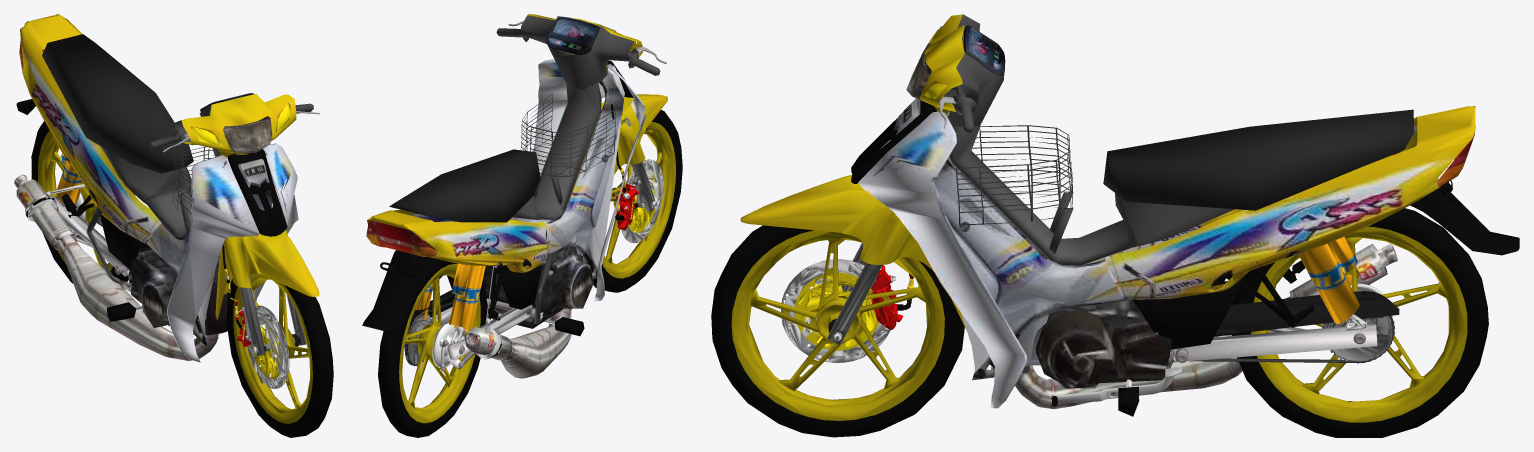
Rendered from FIZ r ori.fbx.
The picture shows the model from 3 angles, left to right: view 1: azimuth 30°, elevation 25°; view 2: azimuth 150°, elevation 25°; view 3: azimuth 270°, elevation 25°; orthographic projection. The views are drawn at different scales.
Visible parts, largest first — view 1: bodi_mesin.002, ban_depan_diskkuanteen.001, 1forks_front.001_forks_front.003, steer_rangka.001, ban_belakang_wheel_rear.002, rear_1forks_rear.001_forks_rear.002; view 2: bodi_mesin.002, ban_belakang_wheel_rear.002, ban_depan_diskkuanteen.001, steer_rangka.001, rear_1forks_rear.001_forks_rear.002, 1forks_front.001_forks_front.003; view 3: bodi_mesin.002, ban_depan_diskkuanteen.001, ban_belakang_wheel_rear.002, rear_1forks_rear.001_forks_rear.002, 1forks_front.001_forks_front.003, steer_rangka.001.
Boxes of the visible parts, bbox=[...] form: bodi_mesin.002: bbox=[14, 14, 298, 362]; ban_depan_diskkuanteen.001: bbox=[226, 273, 333, 437]; 1forks_front.001_forks_front.003: bbox=[215, 207, 319, 356]; steer_rangka.001: bbox=[149, 93, 319, 158]; ban_belakang_wheel_rear.002: bbox=[31, 121, 135, 283]; rear_1forks_rear.001_forks_rear.002: bbox=[53, 153, 176, 276]; bodi_mesin.002: bbox=[362, 59, 645, 378]; ban_belakang_wheel_rear.002: bbox=[378, 259, 487, 437]; ban_depan_diskkuanteen.001: bbox=[585, 110, 682, 292]; steer_rangka.001: bbox=[496, 14, 666, 89]; rear_1forks_rear.001_forks_rear.002: bbox=[404, 239, 535, 371]; 1forks_front.001_forks_front.003: bbox=[568, 94, 667, 230]; bodi_mesin.002: bbox=[851, 96, 1519, 416]; ban_depan_diskkuanteen.001: bbox=[711, 225, 964, 437]; ban_belakang_wheel_rear.002: bbox=[1232, 208, 1488, 437]; rear_1forks_rear.001_forks_rear.002: bbox=[1170, 236, 1399, 363]; 1forks_front.001_forks_front.003: bbox=[740, 175, 966, 344]; steer_rangka.001: bbox=[906, 14, 1005, 133].
Size of the model in its own units: 0.6742 by 2.18 by 1.19.
